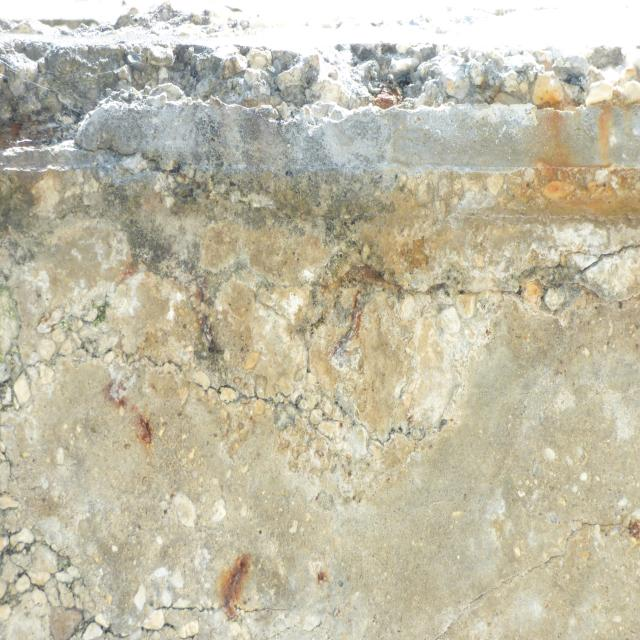corrosion: (89, 374, 178, 469), (211, 529, 270, 637), (326, 259, 399, 339), (564, 488, 640, 550), (184, 284, 212, 338), (302, 549, 328, 597)
